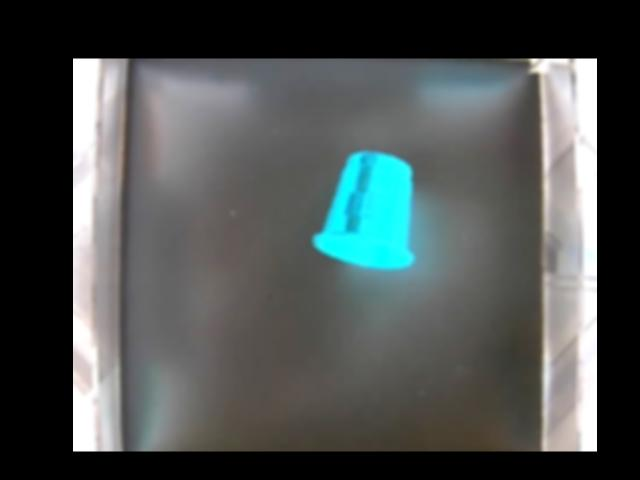Cup: (307, 151, 420, 268)
